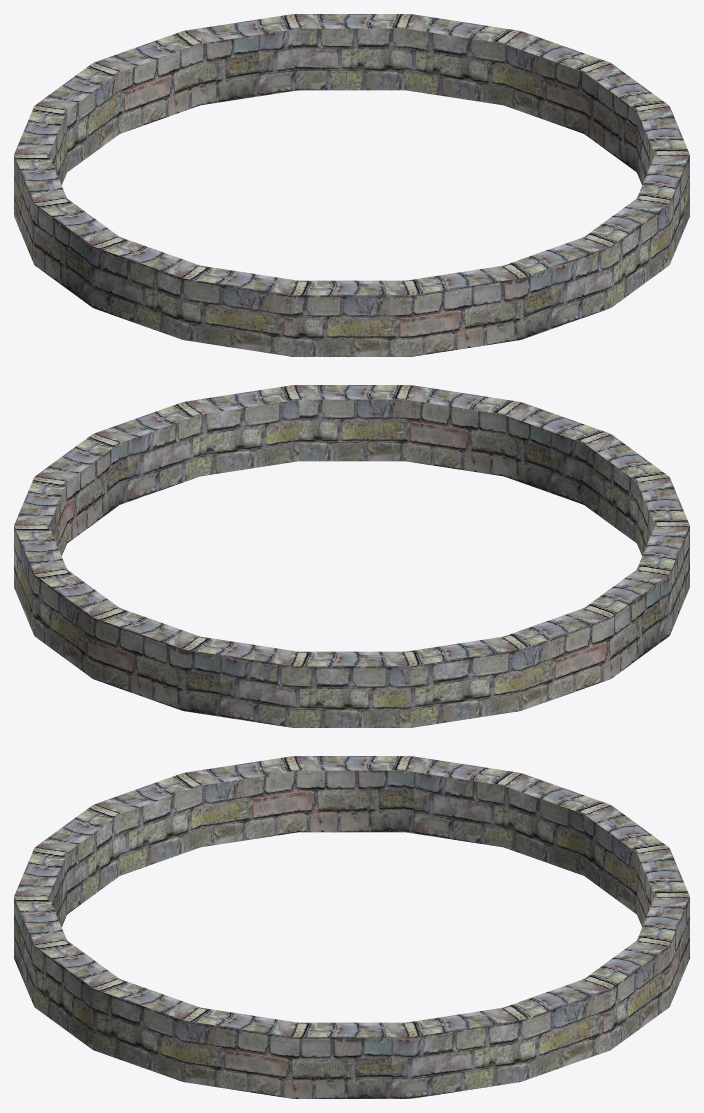
Rendered from huachi.FBX.
3 renders of one model, top to bottom at view 1: azimuth 30°, elevation 25°; view 2: azimuth 150°, elevation 25°; view 3: azimuth 270°, elevation 25°, orthographic.
Parts seen in each view (by area): view 1: Tube001; view 2: Tube001; view 3: Tube001.
Boxes of the visible parts, x1,y1,x2,y2 form: Tube001: [14, 14, 689, 356]; Tube001: [14, 385, 689, 727]; Tube001: [14, 756, 689, 1098].
Bounding box in the file's own units: 111 × 11.33 × 113.
Materials: 1 (1 with a texture image).
